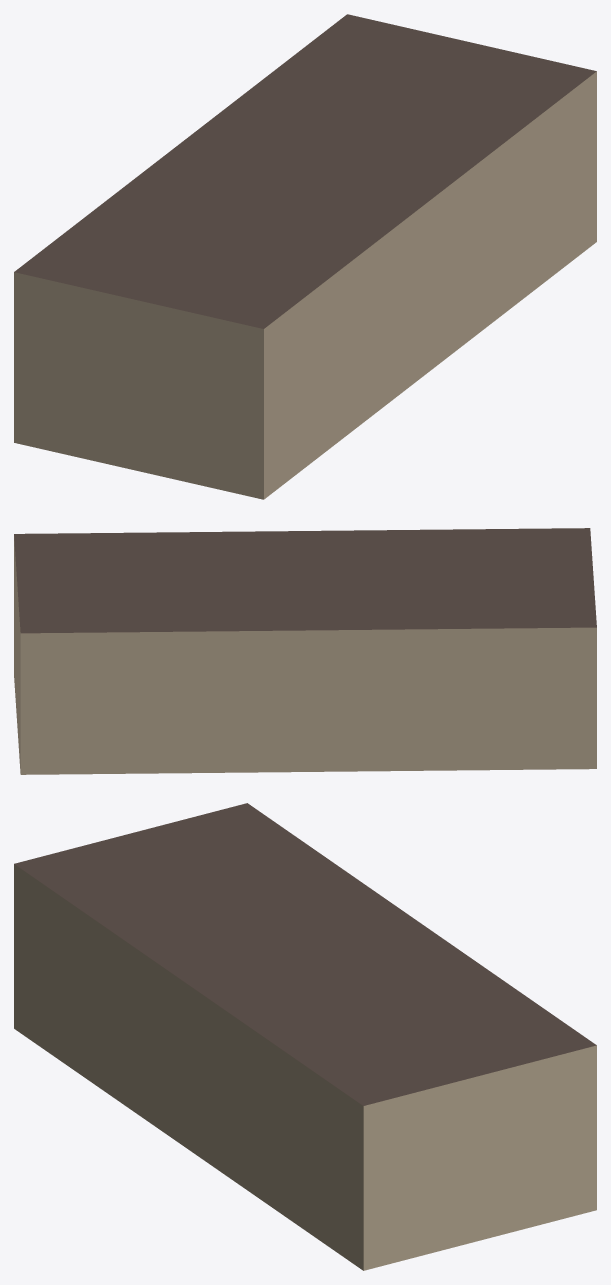
3 renders of one model, top to bottom at view 1: azimuth 30°, elevation 25°; view 2: azimuth 150°, elevation 25°; view 3: azimuth 270°, elevation 25°, orthographic. The views are drawn at different scales.
Visible parts, largest first — view 1: HP-w859488756; view 2: HP-w859488756; view 3: HP-w859488756.
Part boxes in pixels (left/top/right/bottom): HP-w859488756: left=14, top=14, right=596, bottom=499; HP-w859488756: left=14, top=528, right=596, bottom=774; HP-w859488756: left=14, top=803, right=596, bottom=1270.
Bounding box in the file's own units: 35.48 × 9 × 28.85.
